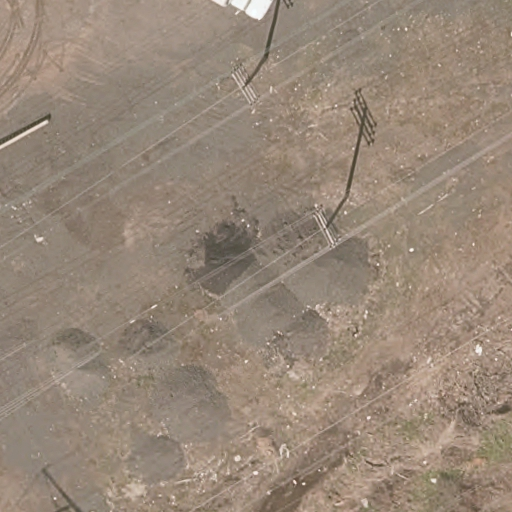DT: (228, 59, 264, 108), (311, 202, 339, 245)
